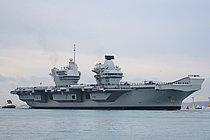MIL_Ship: (9, 57, 204, 110)
